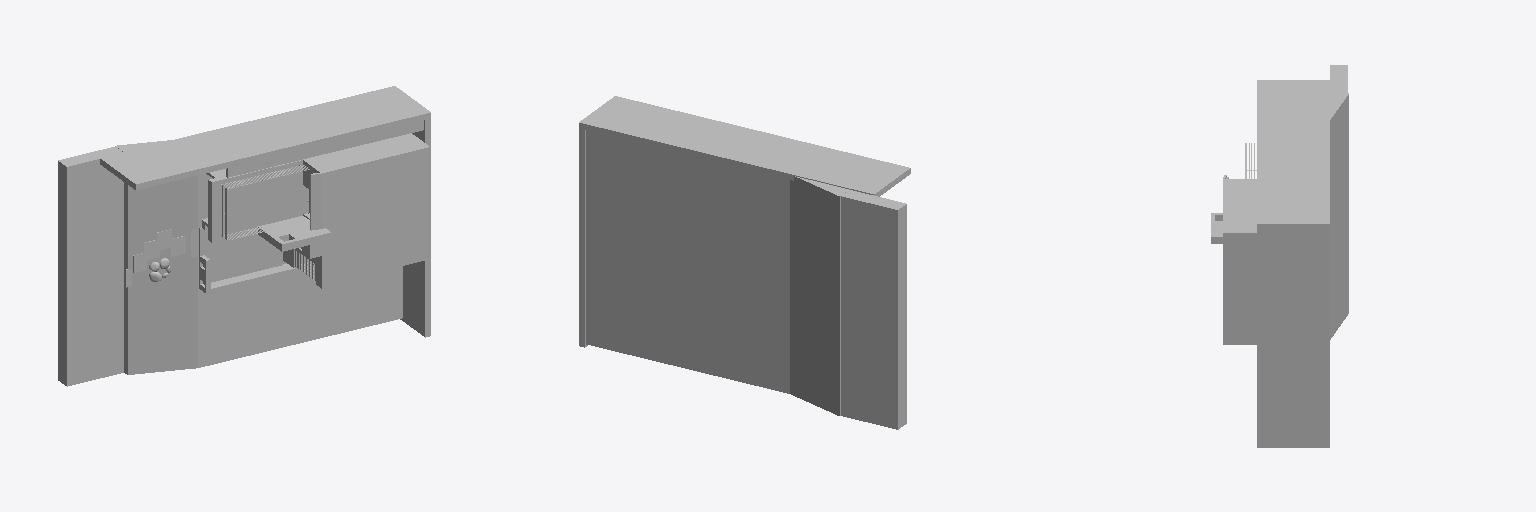
The model's file is house.obj.
3 views of the same model, side by side, from view 1: azimuth 30°, elevation 25°; view 2: azimuth 150°, elevation 25°; view 3: azimuth 270°, elevation 25° (orthographic).
Parts seen in each view (by area): view 1: Object.1; view 2: Object.1; view 3: Object.1.
Boxes of the visible parts, x1,y1,x2,y2 form: Object.1: [58, 86, 430, 386]; Object.1: [579, 96, 910, 429]; Object.1: [1211, 65, 1348, 447].
Bounding box in the file's own units: 3073 × 2001 × 1126.